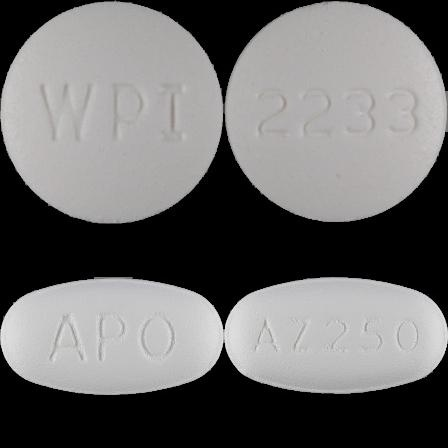50090-0942: (0, 0, 224, 224)
